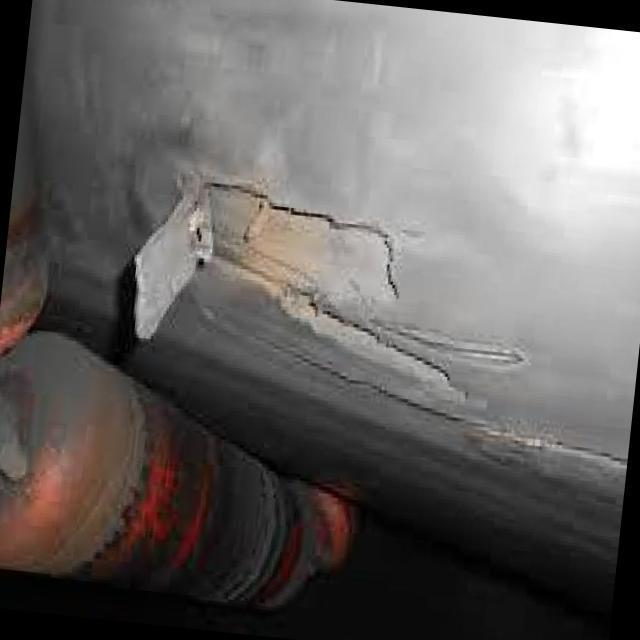Tear: (124, 170, 524, 394)
